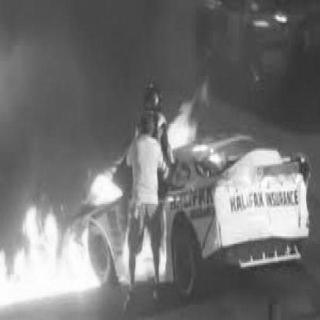Fire: (0, 201, 98, 308), (160, 96, 202, 146), (119, 222, 131, 278), (157, 214, 167, 278)
